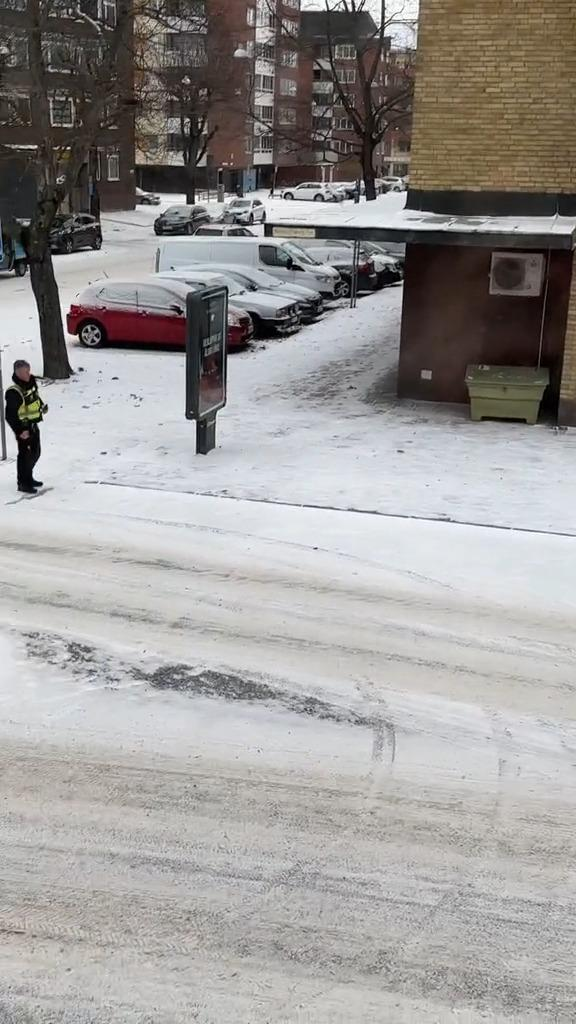parking-attendant: (5, 359, 46, 493)
